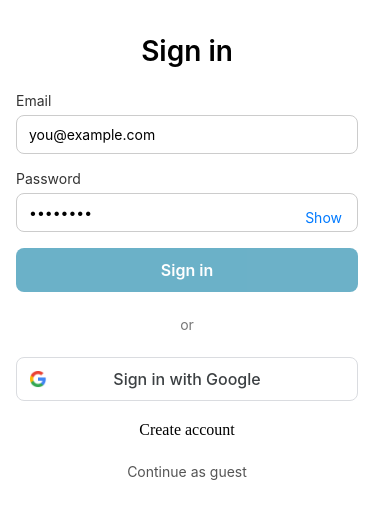
Test: LoginScreen › shows validation errors for invalid email and short password
The image size is (375, 520).
Type "invalid" into the field named "Email" at (187, 134), box [16, 115, 358, 154]
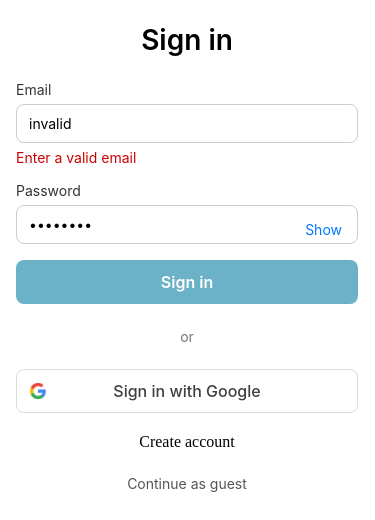
Type "short" into the password field named "Password" at (187, 224), box [16, 204, 358, 244]
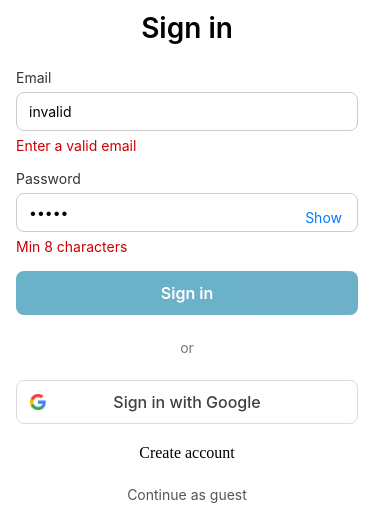
Expected: the text "Enter a valid email" is shown, [16, 137, 136, 154]
Expected: the text "Min 8 characters" is shown, [16, 238, 127, 255]
